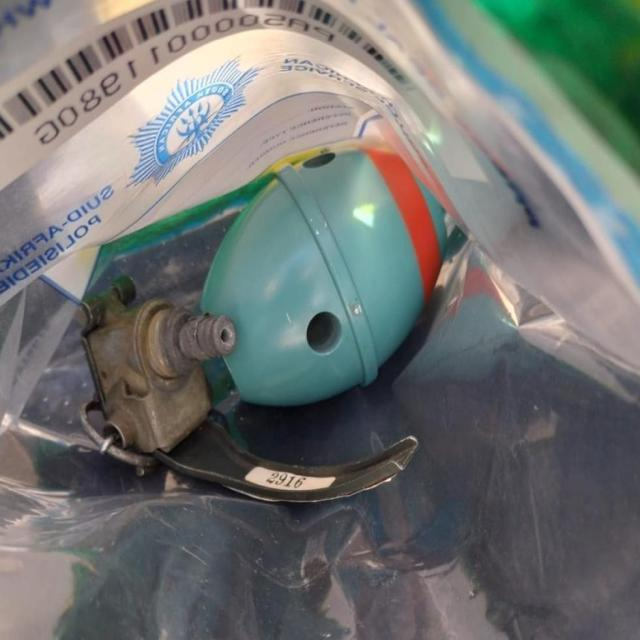grenade: (78, 149, 449, 508)
